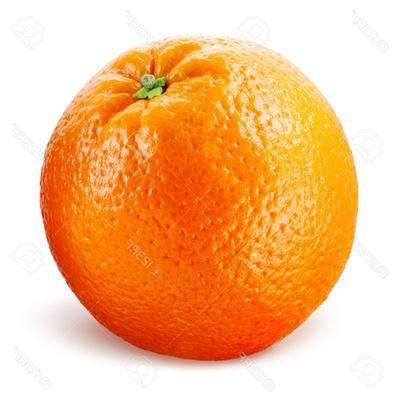orange: (0, 0, 400, 400)
